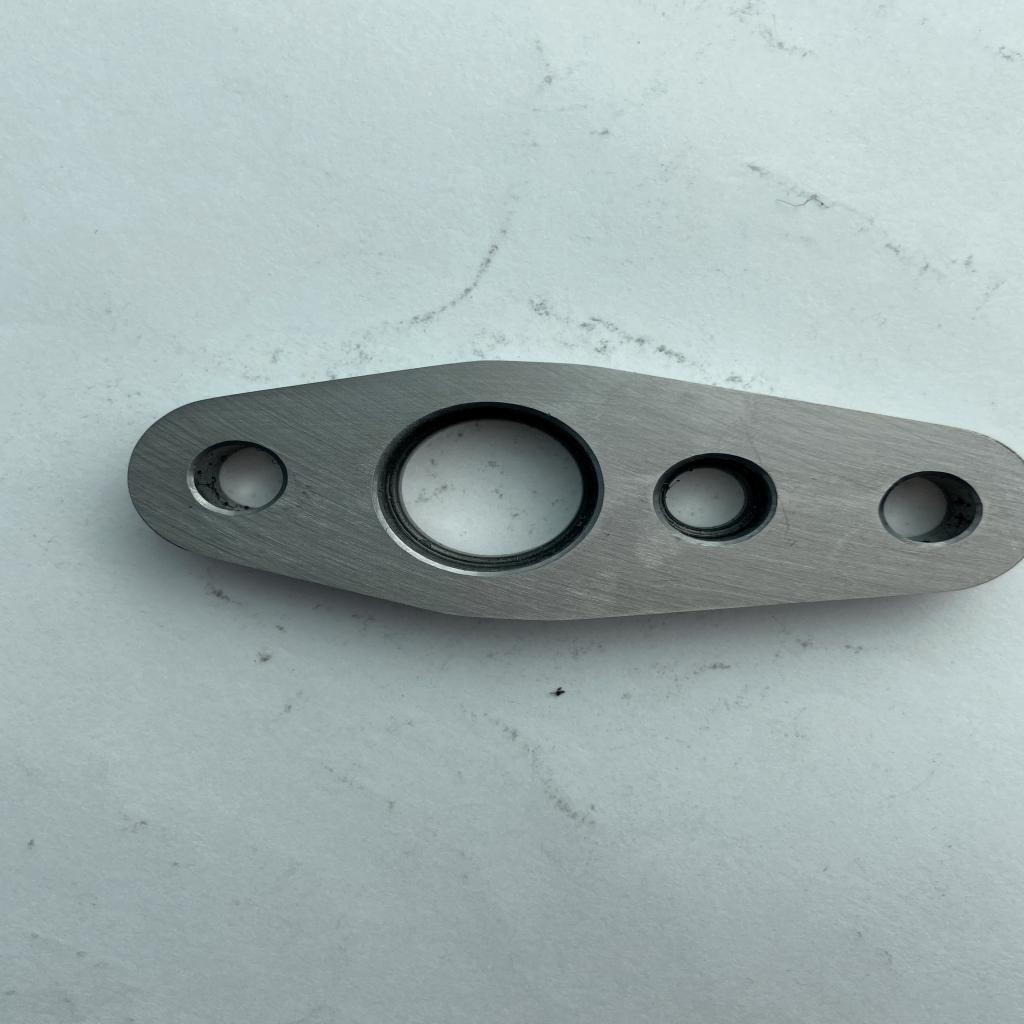lines: (739, 419, 765, 459), (778, 502, 796, 541)
